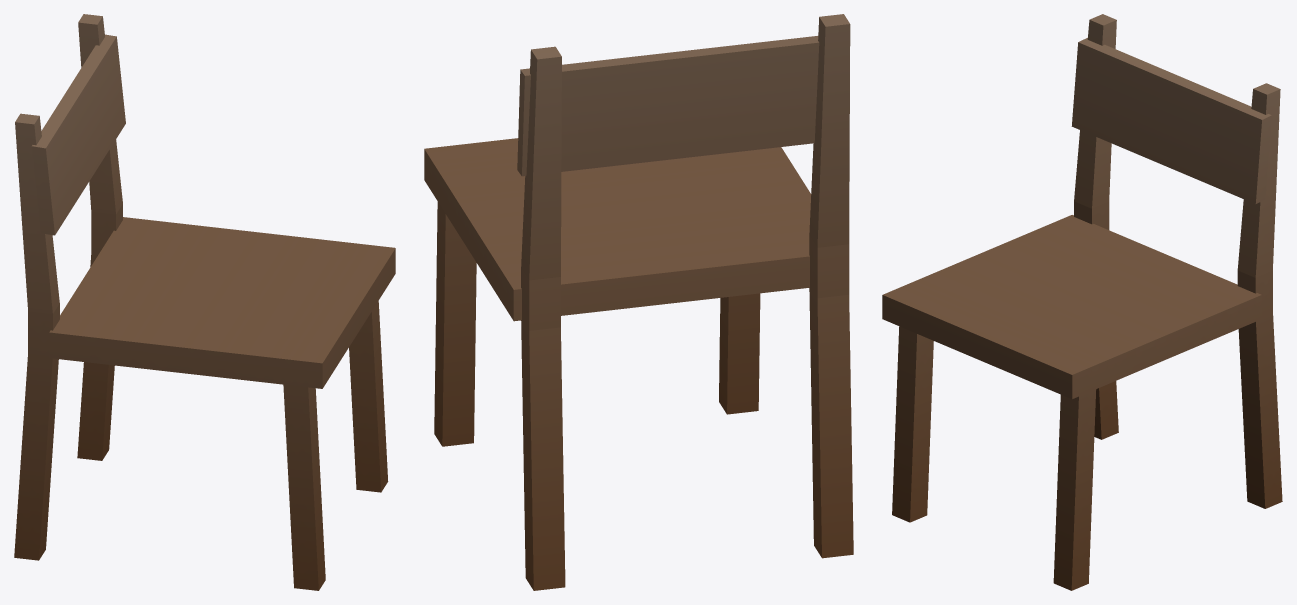
The model's file is lowpoly_chair.glb.
3 renders of one model, left to right at view 1: azimuth 30°, elevation 25°; view 2: azimuth 150°, elevation 25°; view 3: azimuth 270°, elevation 25°, orthographic. The views are drawn at different scales.
Parts seen in each view (by area): view 1: Chair; view 2: Chair; view 3: Chair.
Boxes of the visible parts, x1,y1,x2,y2 form: Chair: (14, 14, 395, 590); Chair: (424, 14, 853, 590); Chair: (882, 14, 1282, 590).
Size of the model in its own units: 2.13 by 2.42 by 2.13.
1 material, 1 textured.
